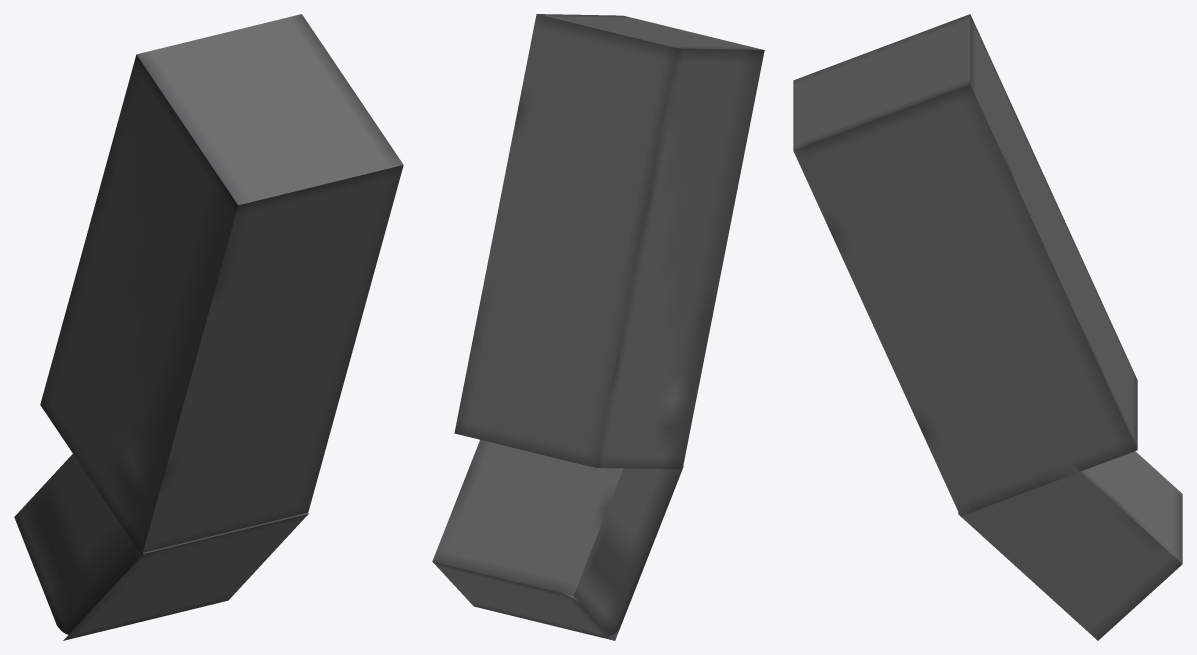
The model's file is suspension_link_left_front.obj.
3 renders of one model, left to right at view 1: azimuth 30°, elevation 25°; view 2: azimuth 150°, elevation 25°; view 3: azimuth 270°, elevation 25°, orthographic. The views are drawn at different scales.
Parts seen in each view (by area): view 1: element_9, element_13; view 2: element_9, element_13; view 3: element_9, element_13.
Part boxes in pixels (x1,y1,x2,y2): element_9: [40, 14, 403, 555]; element_13: [14, 432, 308, 640]; element_9: [454, 14, 764, 469]; element_13: [432, 440, 683, 640]; element_9: [793, 14, 1137, 516]; element_13: [958, 438, 1182, 640].
Bounding box in the file's own units: 0.1734 × 0.6412 × 0.4065.
